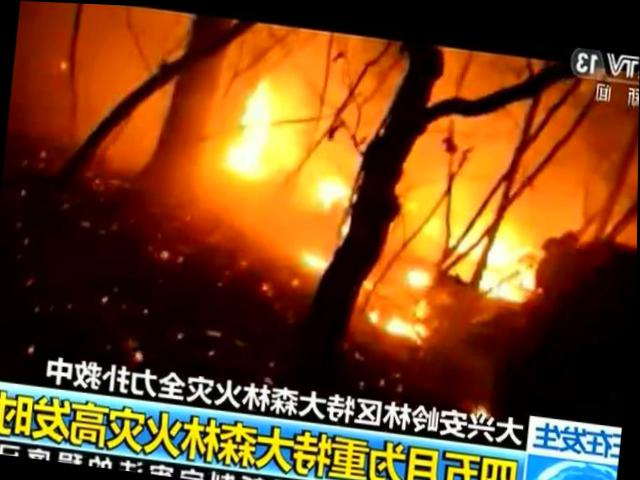fire: (364, 178, 548, 350), (216, 70, 302, 188), (296, 163, 359, 271)
